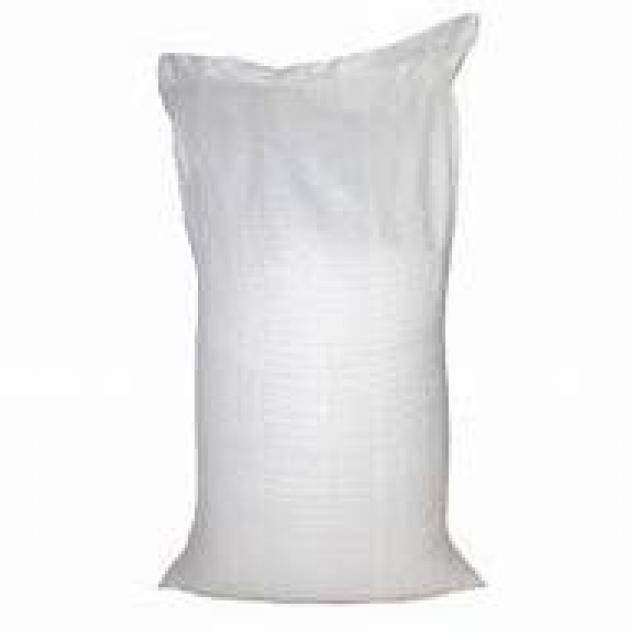gunny_bag: (151, 9, 495, 605)
